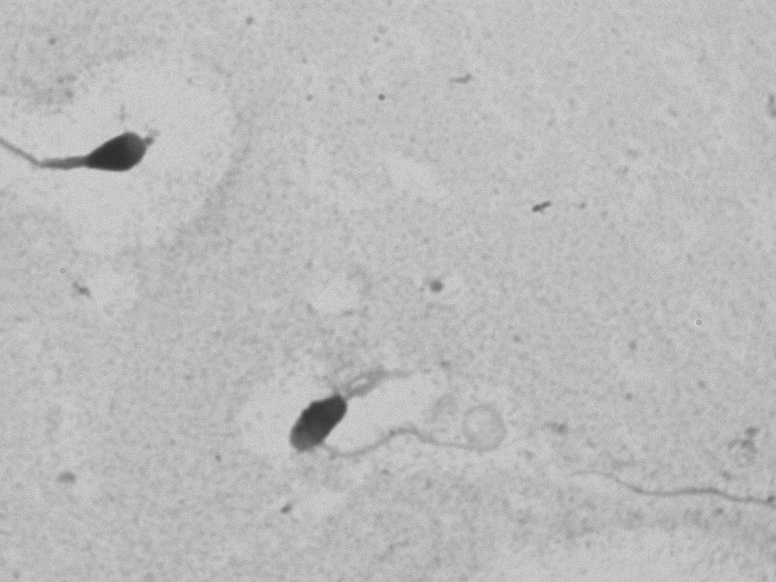Abnormal: (239, 324, 465, 508), (19, 95, 164, 207)
